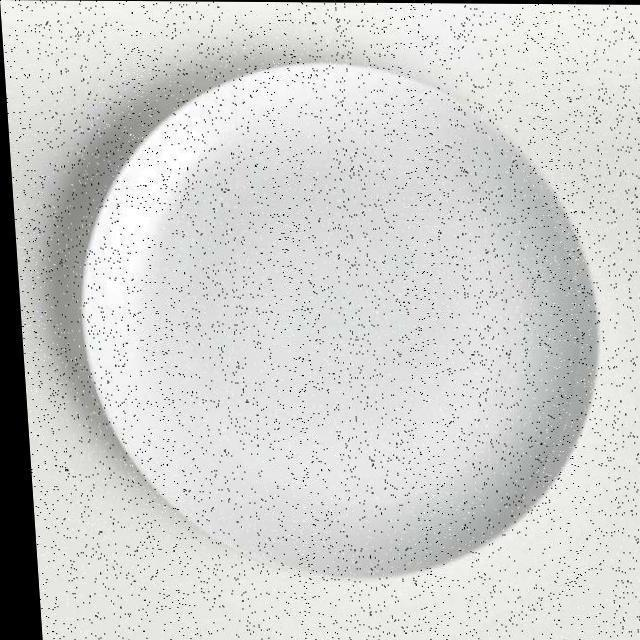Plate: (51, 48, 630, 600)
